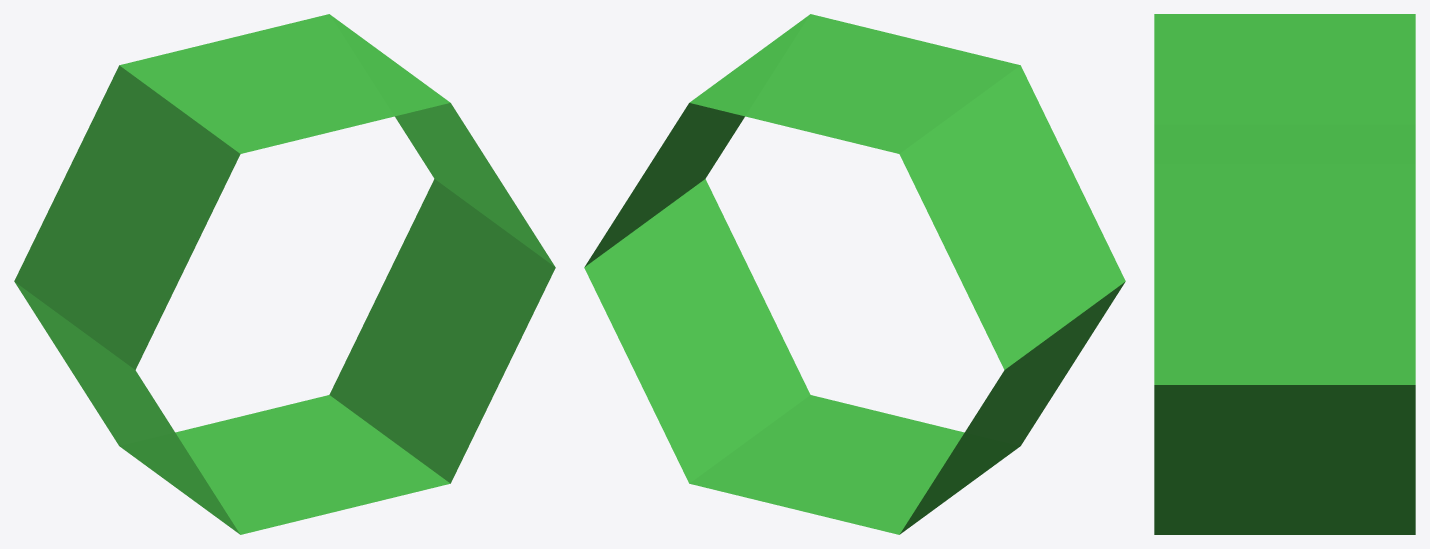
The model's file is HexagonalPrismA.obj.
The picture shows the model from 3 angles, left to right: view 1: azimuth 30°, elevation 25°; view 2: azimuth 150°, elevation 25°; view 3: azimuth 270°, elevation 25°; orthographic projection. The views are drawn at different scales.
Bounding box in the file's own units: 2 × 1.73 × 1.
